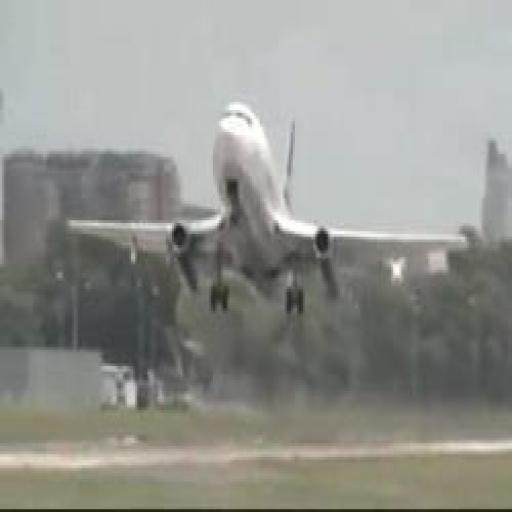aircraft: (66, 99, 472, 314)
